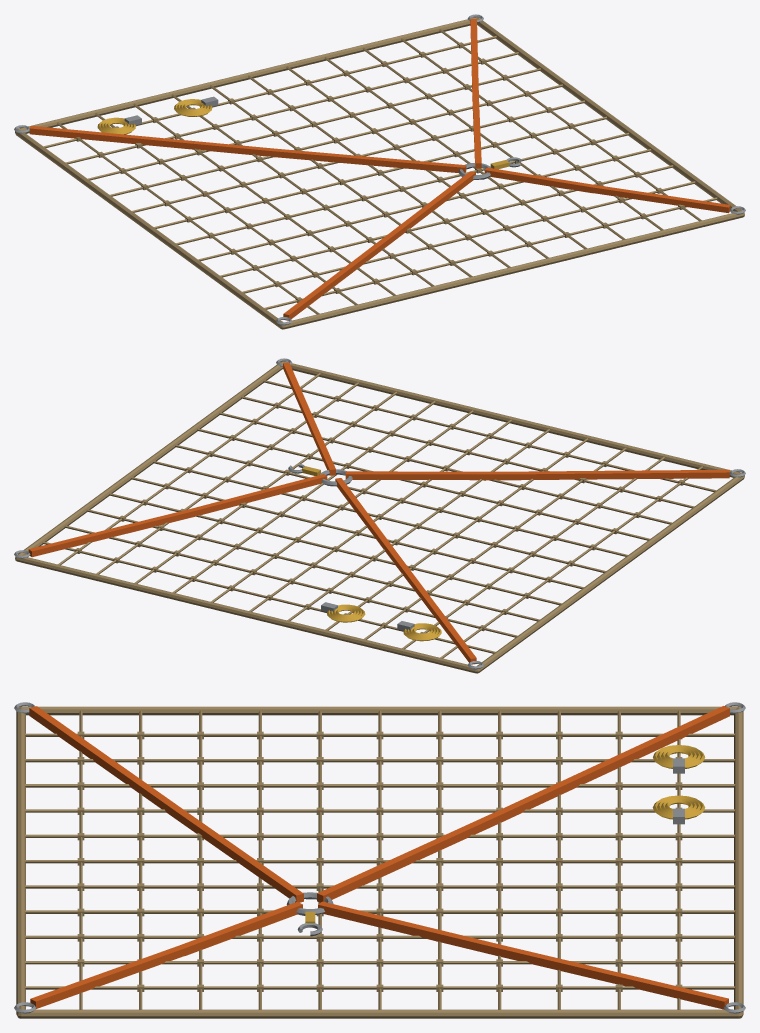
Rendered from prop_secure_cargo_net.glb.
3 renders of one model, top to bottom at view 1: azimuth 30°, elevation 25°; view 2: azimuth 150°, elevation 25°; view 3: azimuth 270°, elevation 25°, orthographic. The views are drawn at different scales.
Parts seen in each view (by area): view 1: Body; view 2: Body; view 3: Body.
Part boxes in pixels (box(x1,y1,x2,y2)): Body: box(14, 14, 745, 329); Body: box(14, 358, 745, 673); Body: box(14, 702, 745, 1018).
Size of the model in its own units: 3.67 by 0.08 by 3.67.
